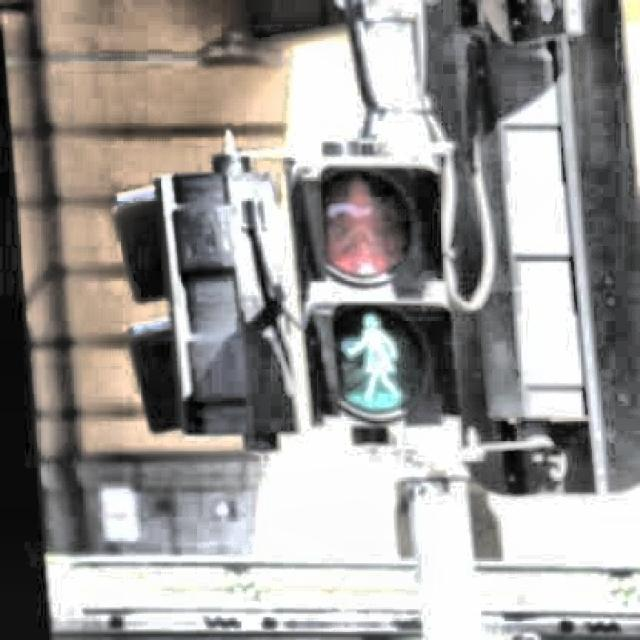semaforo pedestre: (259, 129, 496, 468)
